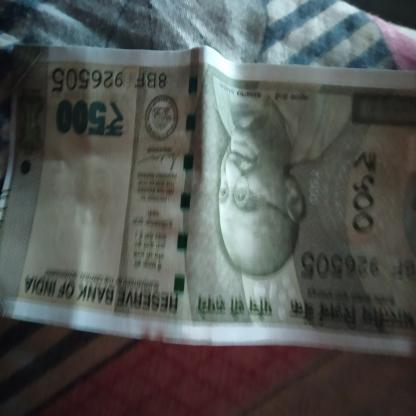New500Front: (8, 42, 415, 334)
